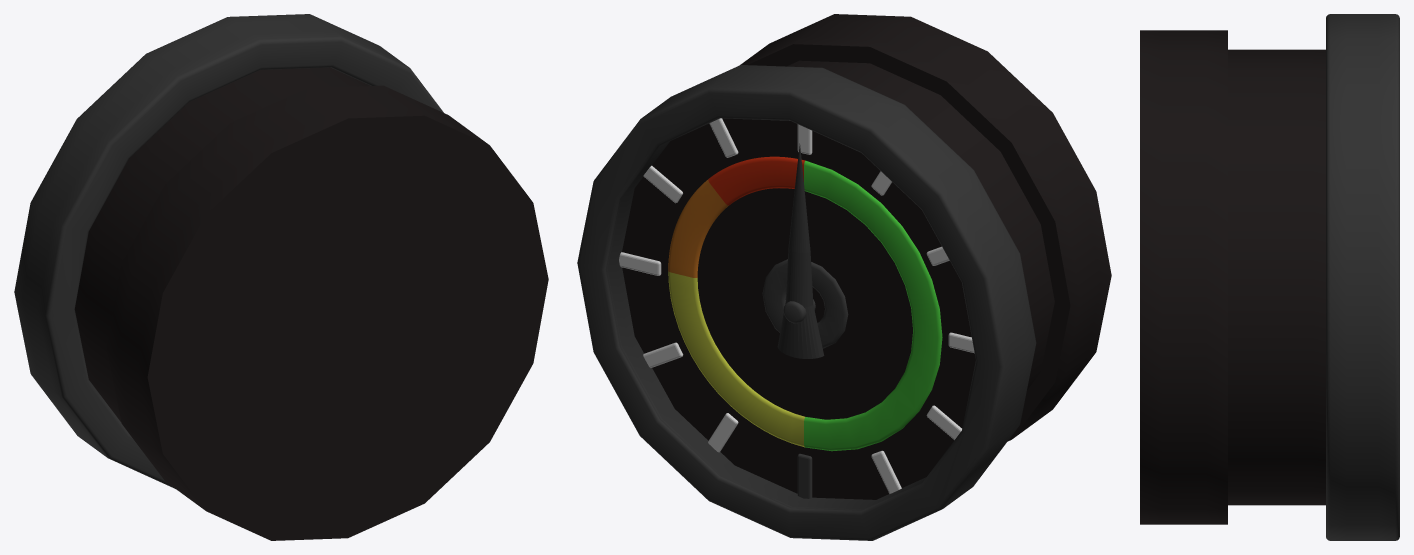
The model's file is Arrow.fbx.
3 views of the same model, side by side, from view 1: azimuth 30°, elevation 25°; view 2: azimuth 150°, elevation 25°; view 3: azimuth 270°, elevation 25° (orthographic). The views are drawn at different scales.
Visible parts, largest first — view 1: Cylinder_3, Tube, Cylinder; view 2: Cylinder, Tube, Cylinder_3, Tube_1, Tube_3, Cone, Tube_2, Tube_5, Tube_4, Cube_1_0, Cube_1_3; view 3: Cylinder, Cylinder_3, Tube.
Part boxes in pixels (x1,y1,x2,y2): Cylinder_3: [106, 85, 548, 540]; Tube: [14, 14, 443, 488]; Cylinder: [74, 67, 370, 421]; Cylinder: [622, 60, 1054, 499]; Tube: [577, 65, 1036, 540]; Cylinder_3: [740, 14, 1111, 441]; Tube_1: [804, 160, 942, 451]; Tube_3: [668, 271, 804, 447]; Cone: [777, 143, 824, 358]; Tube_2: [762, 259, 848, 348]; Tube_5: [668, 179, 728, 277]; Tube_4: [708, 156, 805, 205]; Cube_1_0: [797, 453, 812, 498]; Cube_1_3: [619, 252, 661, 275]; Cylinder: [1228, 49, 1325, 505]; Cylinder_3: [1140, 30, 1227, 524]; Tube: [1326, 14, 1399, 540].
Bounding box in the file's own units: 116 × 116 × 56.97.
